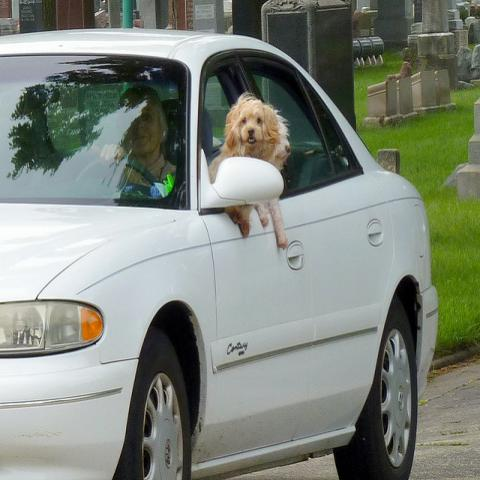car: (1, 29, 441, 476)
